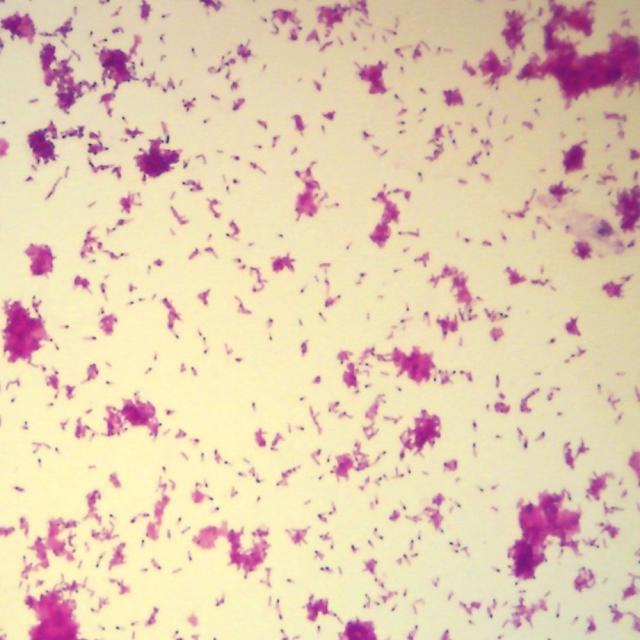Rod_bacteria: (1, 0, 640, 639)
